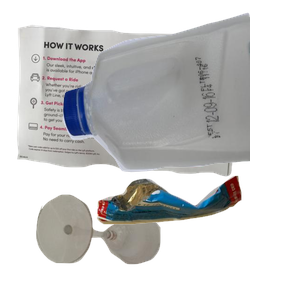glass: (34, 192, 187, 300)
paper: (14, 22, 247, 191)
plastic: (60, 10, 300, 175)
trash: (94, 173, 300, 300)
